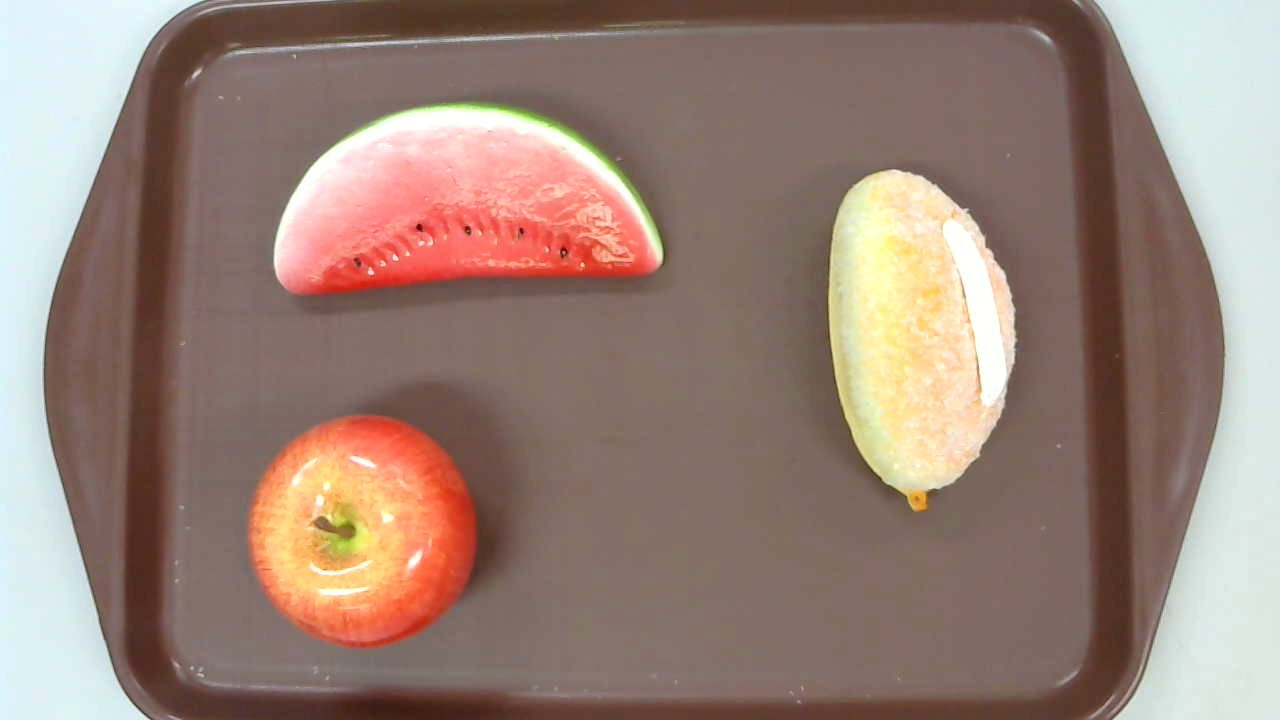coconut: (828, 168, 1016, 512)
red apple: (247, 415, 477, 648)
water melon: (272, 102, 665, 296)
